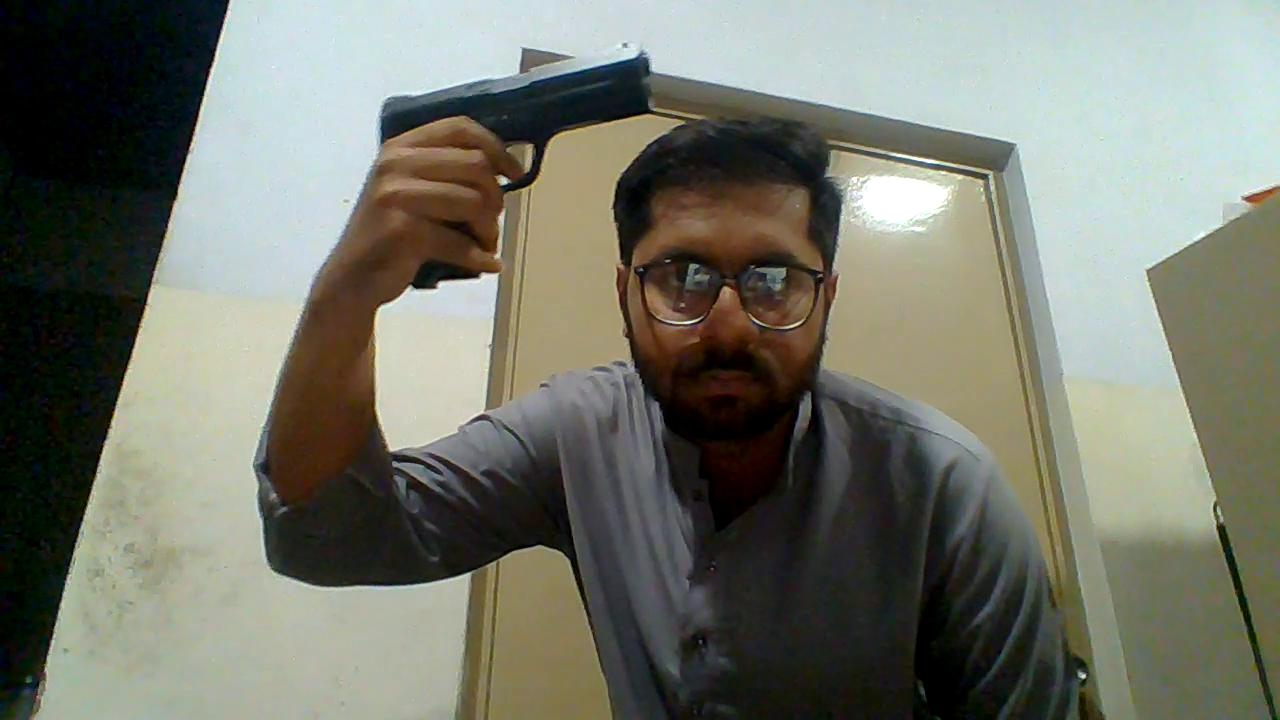criminal: (255, 36, 1082, 720)
weapon: (378, 37, 653, 291)
